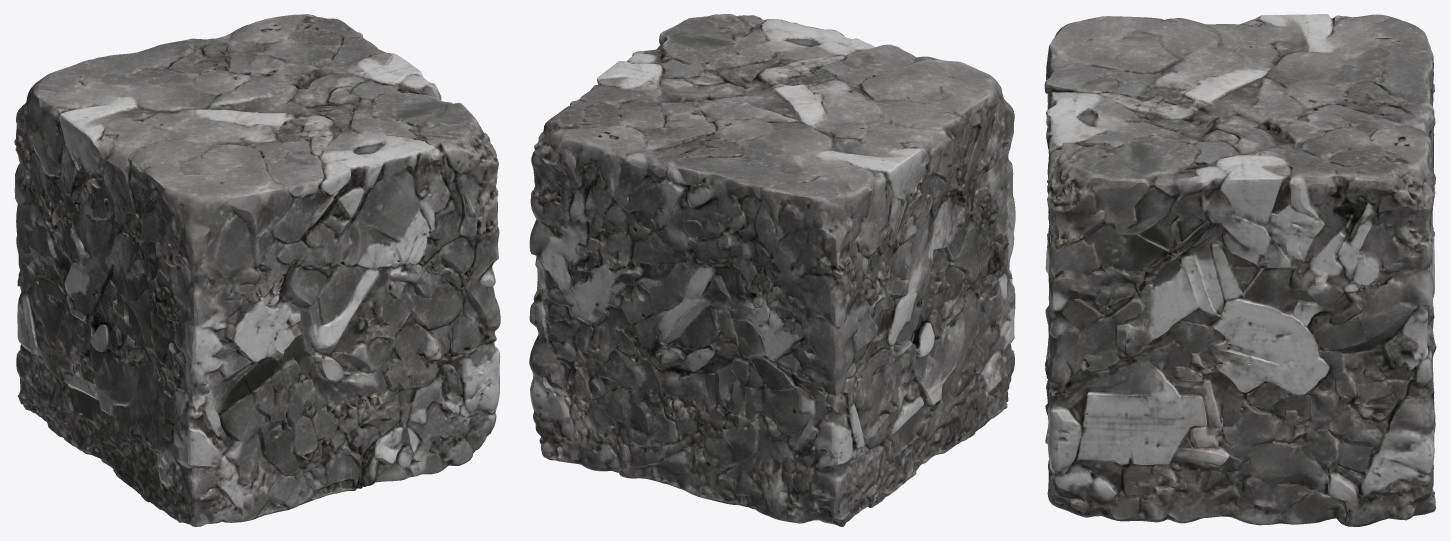
Rendered from task-4891344.glb.
The picture shows the model from 3 angles, left to right: view 1: azimuth 30°, elevation 25°; view 2: azimuth 150°, elevation 25°; view 3: azimuth 270°, elevation 25°; orthographic projection. The views are drawn at different scales.
Parts seen in each view (by area): view 1: world; view 2: world; view 3: world.
Boxes of the visible parts, x1,y1,x2,y2 form: world: (14, 14, 500, 526); world: (529, 14, 1015, 526); world: (1044, 14, 1436, 526).
Size of the model in its own units: 0.12 by 0.1193 by 0.1197.
1 material, 1 textured.
